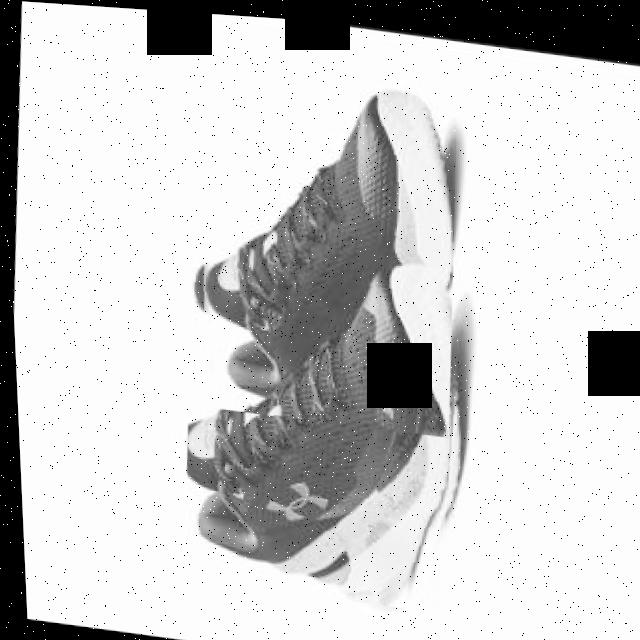shoe: (166, 228, 474, 610), (176, 57, 469, 435)
